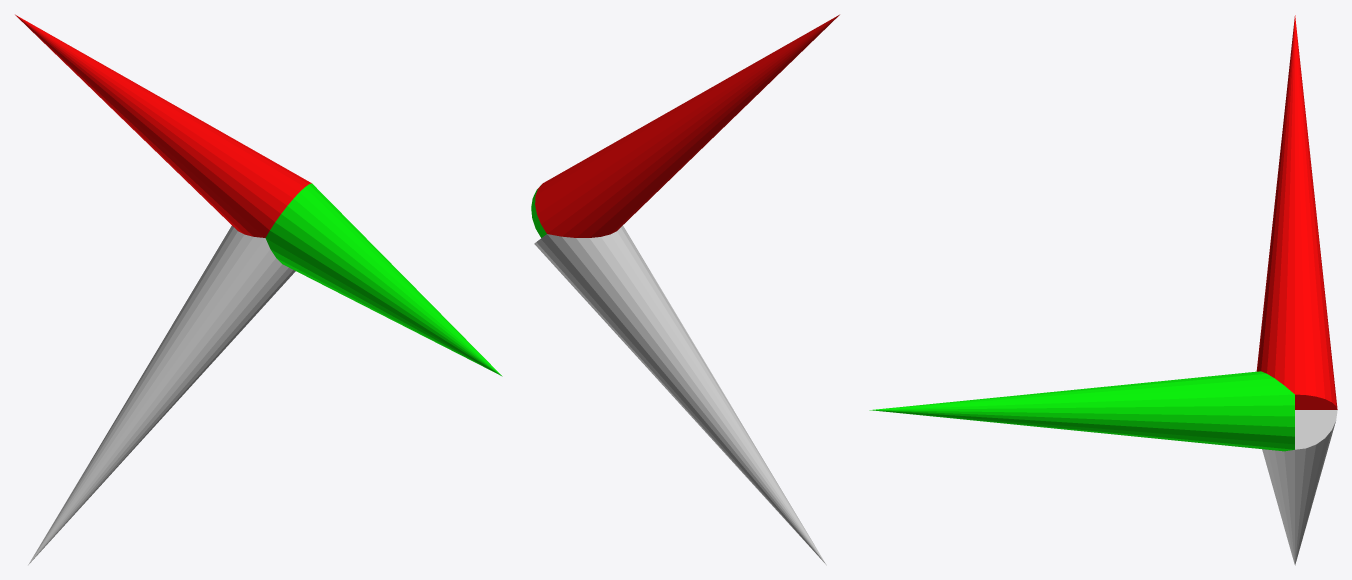
Rendered from Pivot.FBX.
3 views of the same model, side by side, from view 1: azimuth 30°, elevation 25°; view 2: azimuth 150°, elevation 25°; view 3: azimuth 270°, elevation 25° (orthographic).
Parts seen in each view (by area): view 1: Cone003; view 2: Cone003; view 3: Cone003.
Boxes of the visible parts, <box> form: Cone003: <box>15,14,502,564</box>; Cone003: <box>531,14,839,565</box>; Cone003: <box>869,15,1337,565</box>.
Size of the model in its own units: 106 by 182 by 142.
